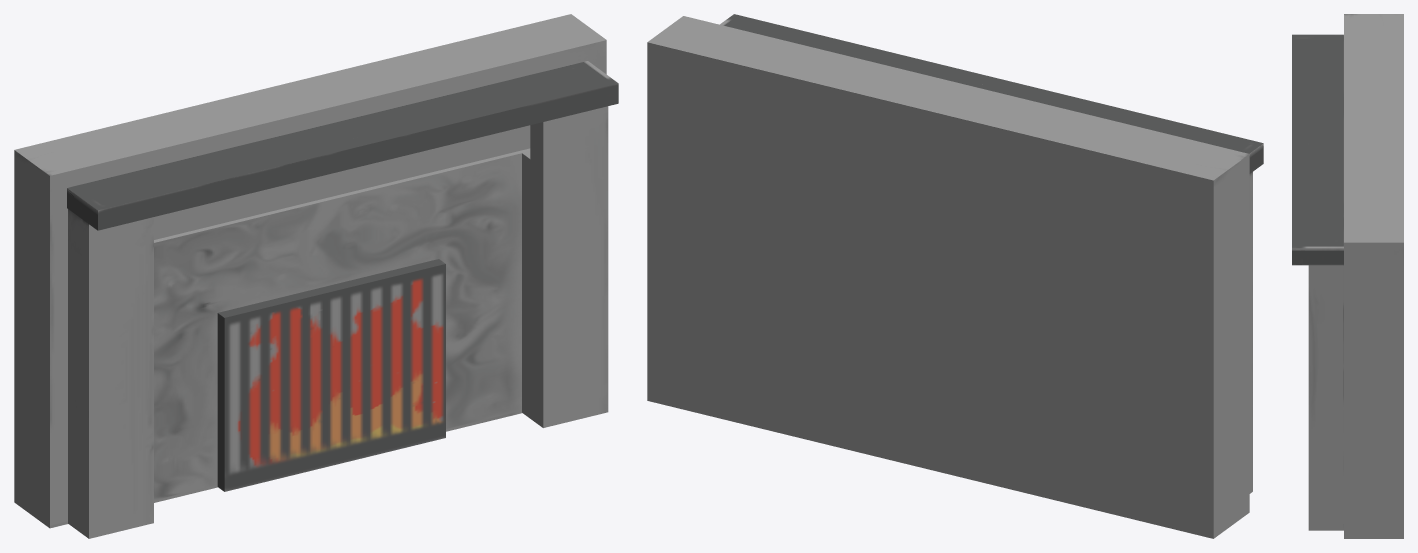
Rendered from Fireplace.fbx.
3 renders of one model, left to right at view 1: azimuth 30°, elevation 25°; view 2: azimuth 150°, elevation 25°; view 3: azimuth 270°, elevation 25°, orthographic. The views are drawn at different scales.
Parts seen in each view (by area): view 1: Cube; view 2: Cube; view 3: Cube.
Boxes of the visible parts, x1,y1,x2,y2 form: Cube: (14,14,618,538); Cube: (647,14,1263,538); Cube: (1292,14,1403,538).
Bounding box in the file's own units: 1112 × 673 × 230.
Materials: 1 (1 with a texture image).
